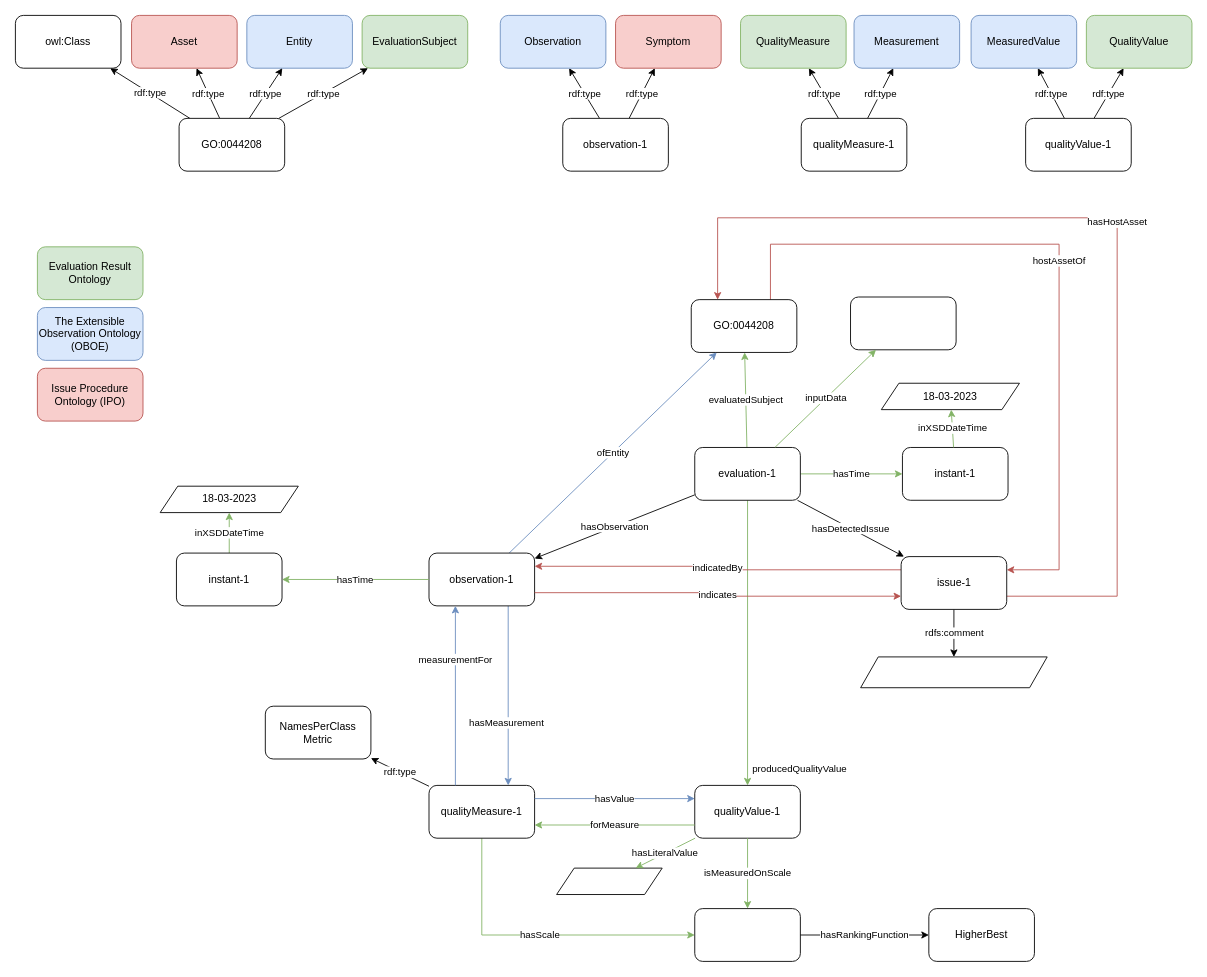
Image size: 1207x977. Some labels were removed from this diagram. The shapes that lost their labels are listed below. From the top down, each one's box as (x1, y1, x2, y2) in pixels, then its label:
(850, 296, 956, 350): GeneOntology
(860, 656, 1047, 688): The class does not have any name
(556, 867, 662, 895): 0^^xsd:integer
(694, 908, 800, 961): scale-1
